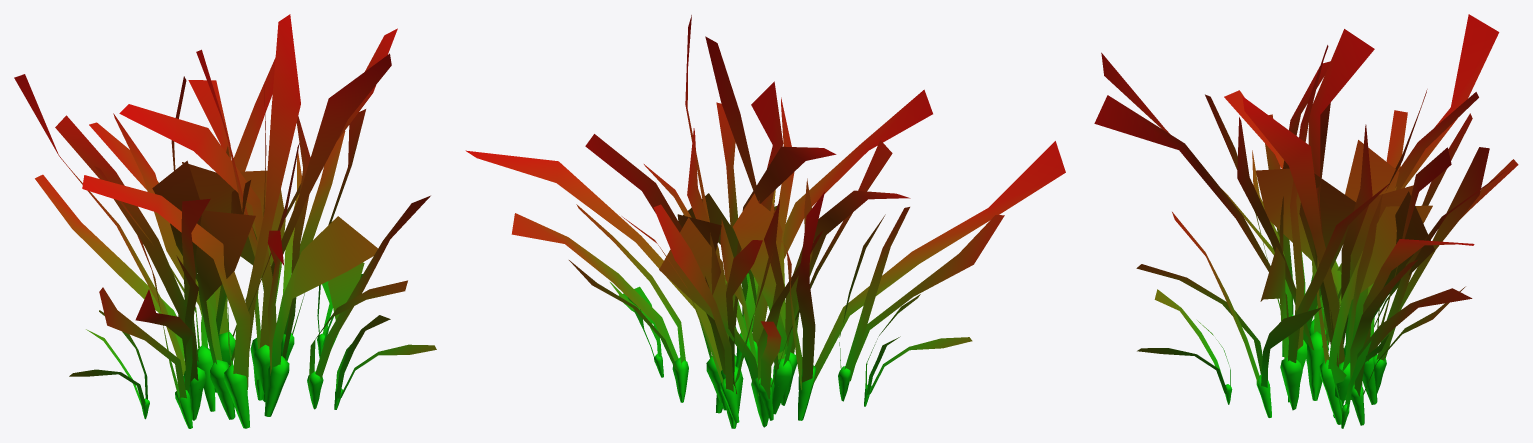
The model's file is Var5.fbx.
The picture shows the model from 3 angles, left to right: view 1: azimuth 30°, elevation 25°; view 2: azimuth 150°, elevation 25°; view 3: azimuth 270°, elevation 25°; orthographic projection. The views are drawn at different scales.
Parts seen in each view (by area): view 1: Var5; view 2: Var5; view 3: Var5.
Part boxes in pixels (box(x1,y1,x2,y2)): Var5: box(14, 14, 436, 428); Var5: box(465, 15, 1065, 428); Var5: box(1094, 14, 1518, 428).
Bounding box in the file's own units: 35.15 × 29.07 × 28.79.
